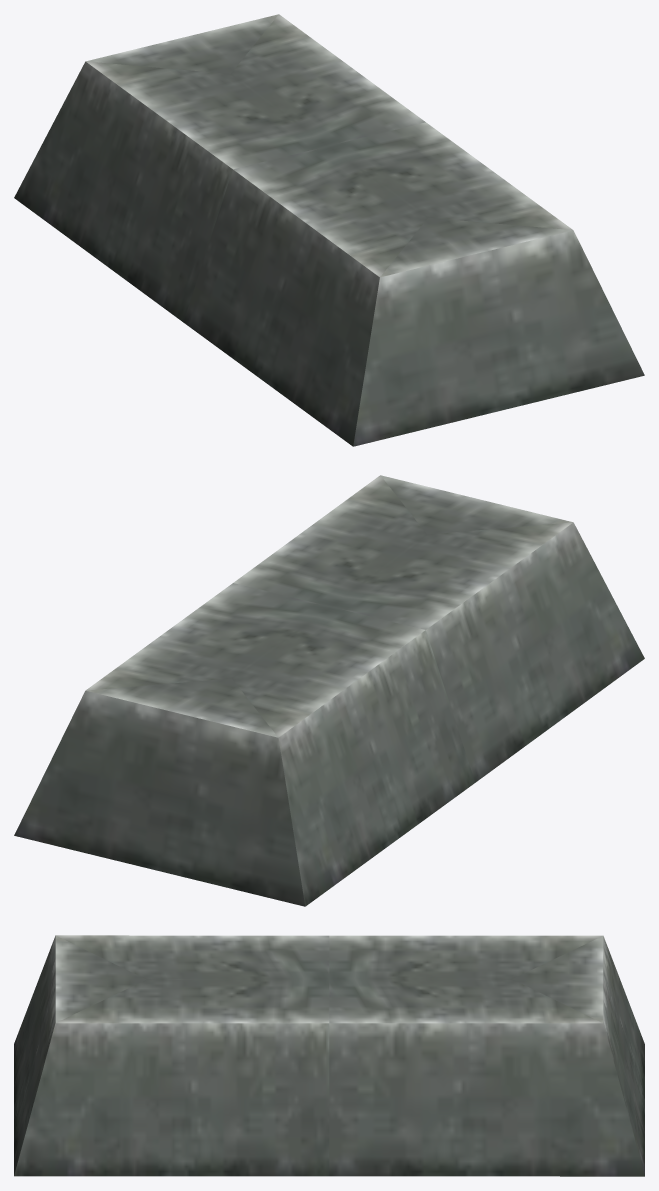
File: SYN_IRON_BAR.glb
The picture shows the model from 3 angles, top to bottom: view 1: azimuth 30°, elevation 25°; view 2: azimuth 150°, elevation 25°; view 3: azimuth 270°, elevation 25°; orthographic projection. The views are drawn at different scales.
Parts seen in each view (by area): view 1: SYN_IRON_BAR; view 2: SYN_IRON_BAR; view 3: SYN_IRON_BAR.
Boxes of the visible parts, box(x1,y1,x2,y2) form: SYN_IRON_BAR: box(14, 14, 644, 446); SYN_IRON_BAR: box(14, 475, 644, 906); SYN_IRON_BAR: box(14, 935, 644, 1176).
Size of the model in its own units: 0.1875 by 0.0864 by 0.3774.
Materials: 1 (1 with a texture image).
